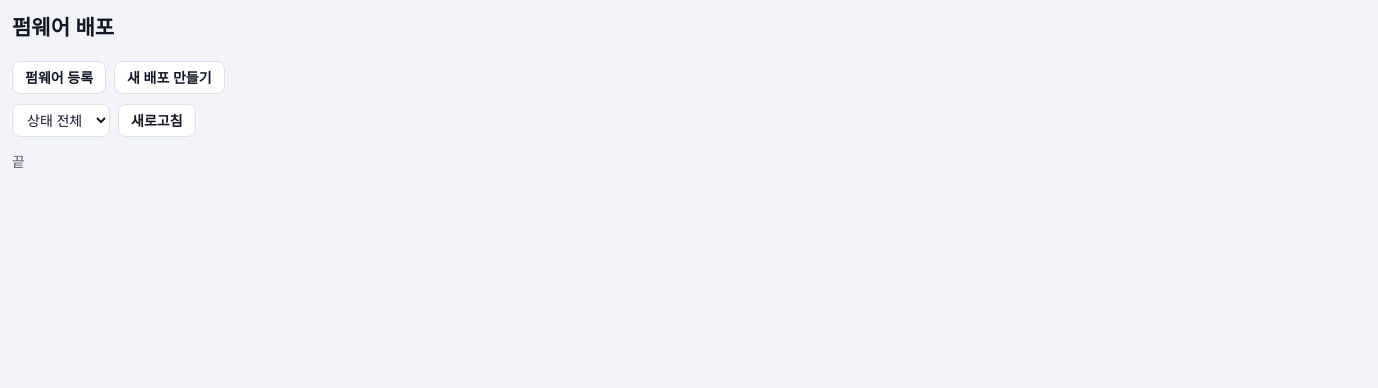
펌웨어 등록·배포 만들기 (F8, 보강 5) › 펌웨어 등록: 버전 형식이 틀리면 꺼지고, 맞으면 POST /firmware로 보낸다. 같은 버전은 409 DUPLICATE 안내
This screenshot has width=1378, height=388.
Click the button "펌웨어 등록": x=59, y=78 [12,61,106,94]
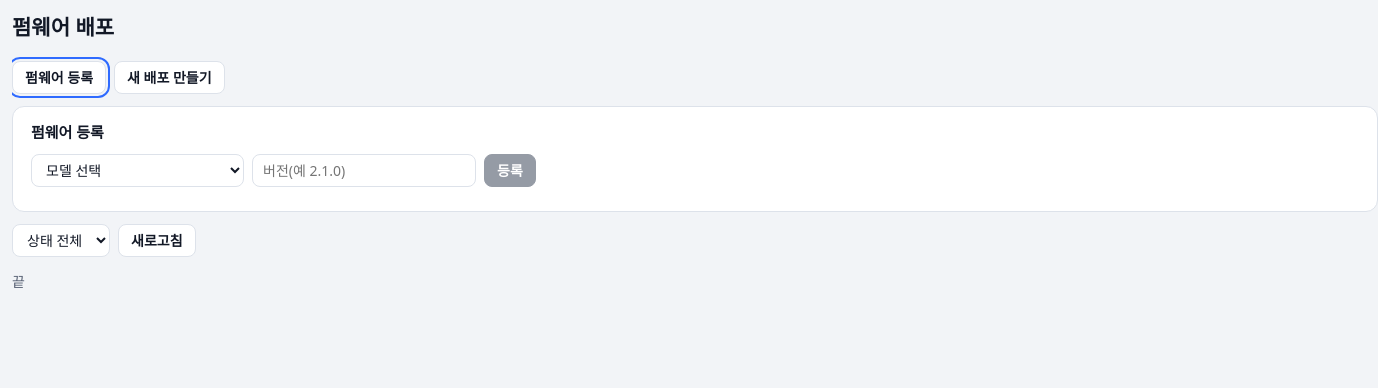
Select "SN-100 유선 카운터형" in the dropdown named "펌웨어 모델": x=138, y=170 [31,154,244,187]
In the field labelled "버전": x=364, y=170 [252,154,476,187], type "2.2.0_beta"
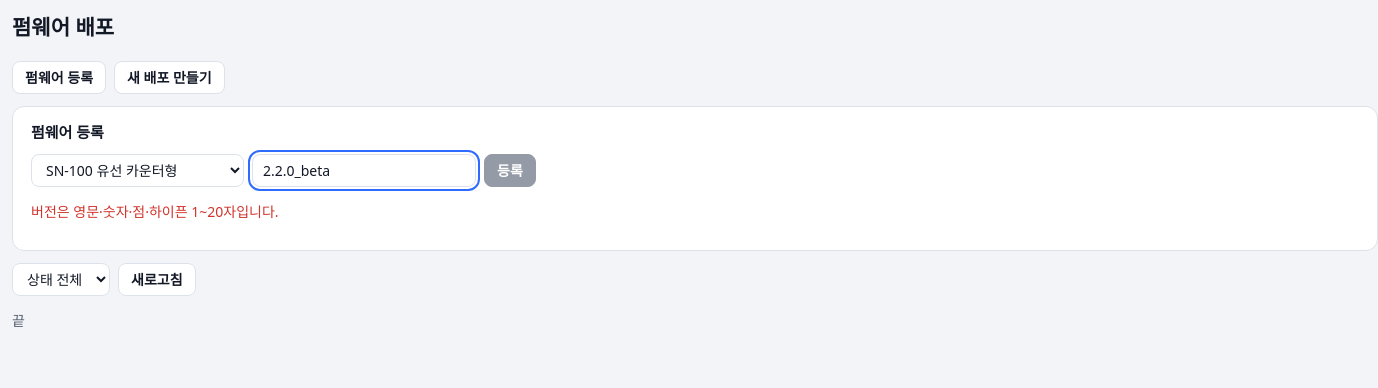
Expected: the button "등록" is disabled, [484,154,536,187]
Expected: the text "버전은 영문·숫자·점·하이픈 1~20자입니다." is shown, [31,202,278,221]
Replace the text in the field named "버전" with "2.2.0": x=364, y=170 [252,154,476,187]
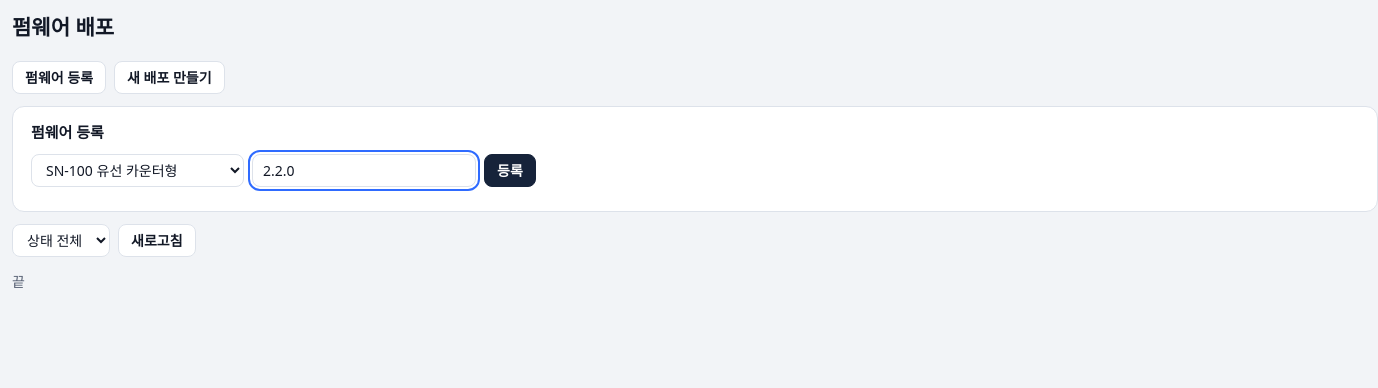
Click the button "등록": x=510, y=170 [484,154,536,187]
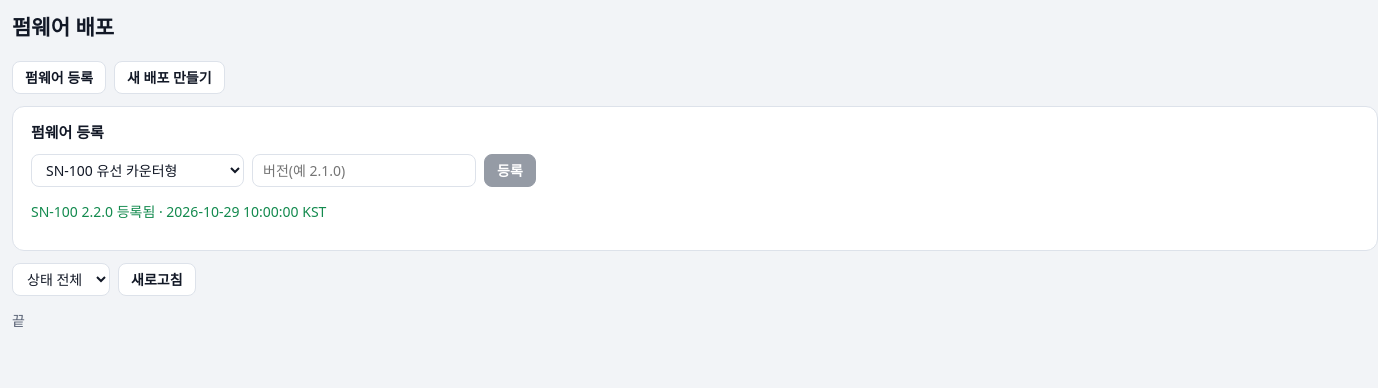
Expected: the message shows "SN-100 2.2.0 등록됨", [31,202,326,221]
In the field labelled "버전": x=364, y=170 [252,154,476,187], type "2.2.0"
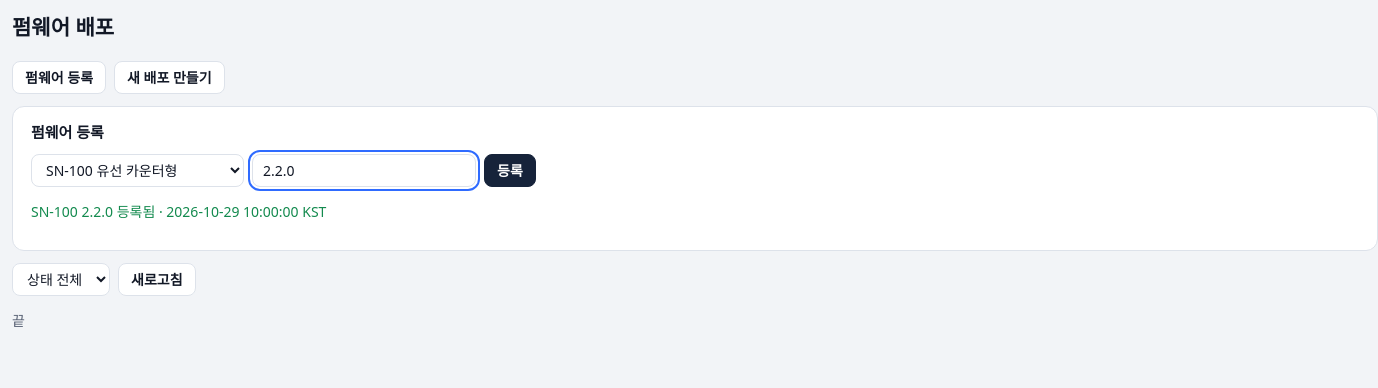
Click the button "등록": x=510, y=170 [484,154,536,187]
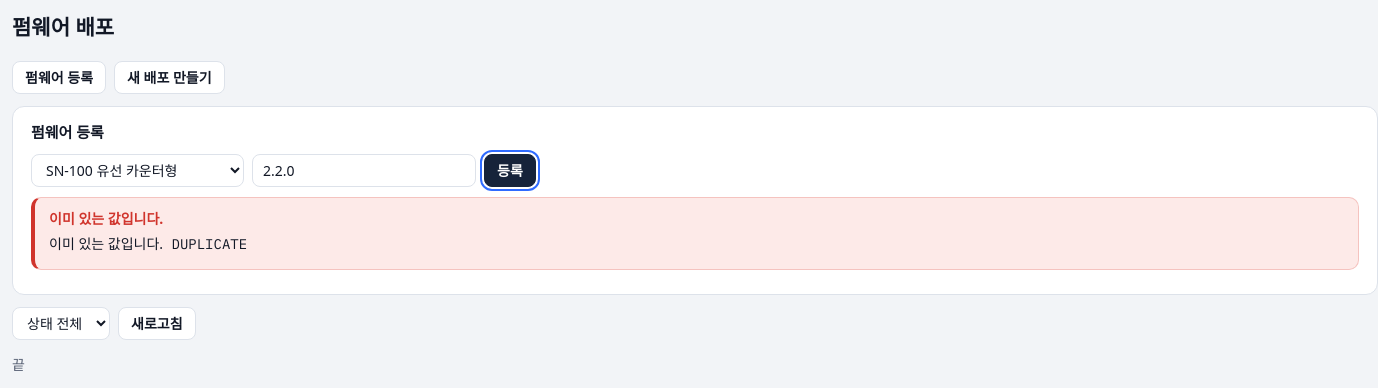
Expected: the message shows "이미 있는 값입니다", [49,209,163,228]
